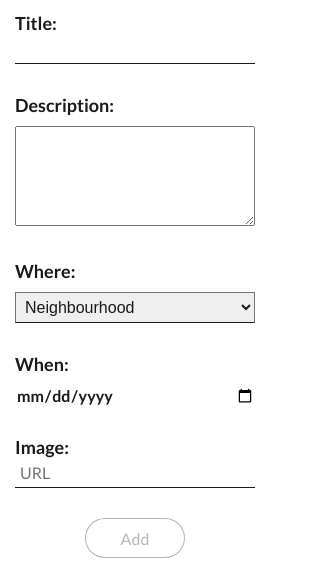
Test: When it is rendered and all the input fields are compleated › Then it should show an enabled button with the text 'Add'
Type "Concert in the park" into the field labelled "Title:". click: (135,49)
box: [15,34,255,64]
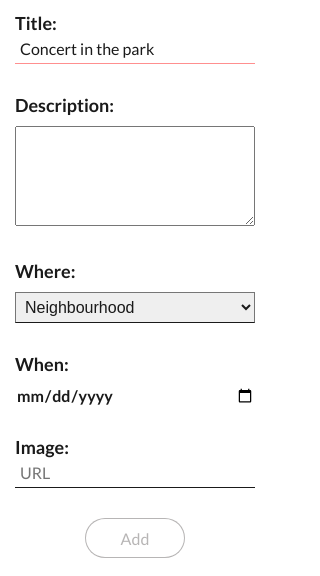
Type "A very good afternoon of music" into the text box labelled "Description:". click: (135,176)
box: [15,126,255,226]
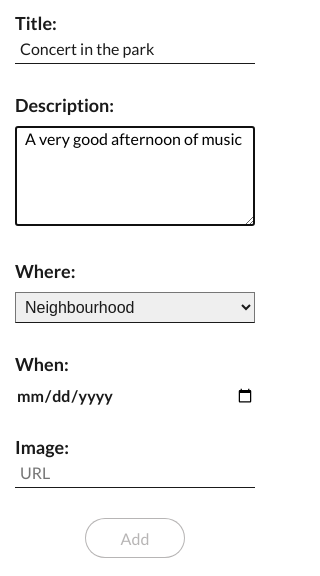
Select "El Born" in the dropdown labelled "Where:". click: (135,308)
box: [15,292,255,323]
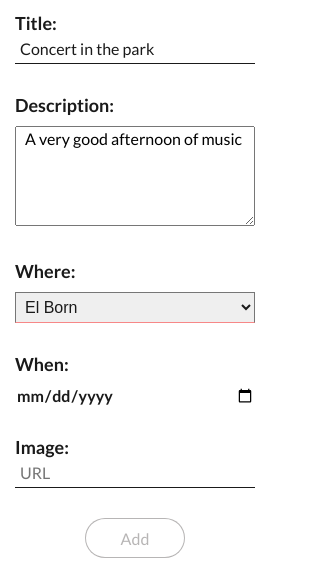
Type "2023-07-03" into the date field labelled "When:". click: (135,396)
box: [15,385,255,406]
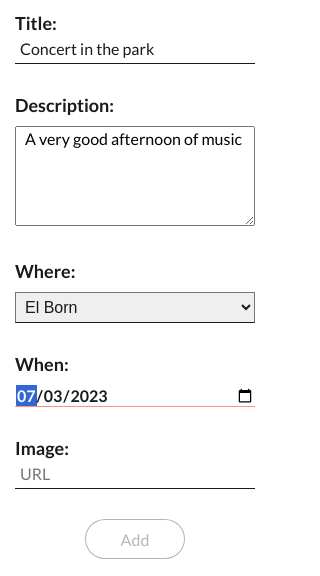
Type "https://cdn.discordapp.com/attachments/1096796306695008286/1115235166374350878/concierto.jpeg" into the field labelled "Image:". click: (135,474)
box: [15,459,255,489]
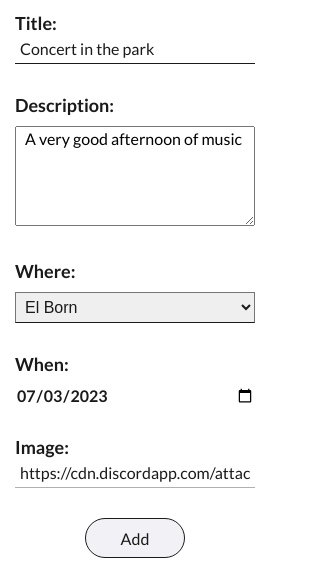
Expected: the button "Add" is enabled, [85,518,185,558]
